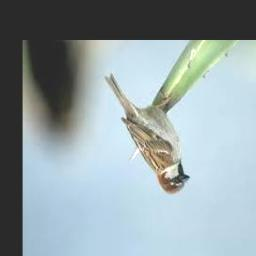Sparrow: (104, 75, 189, 195)
